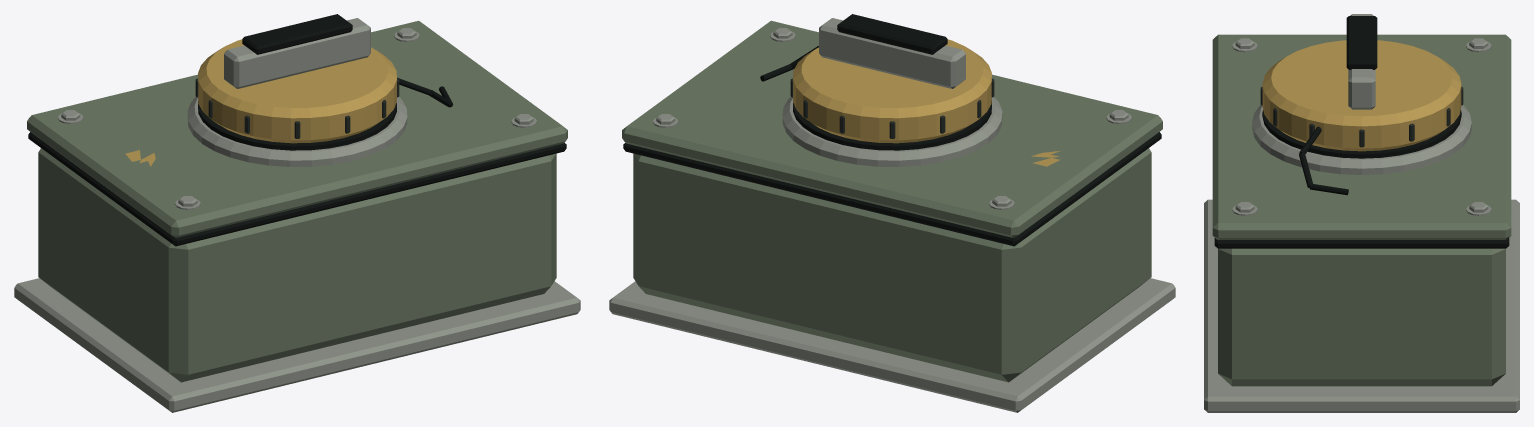
File: rv_fuel_inlet.gltf
3 views of the same model, side by side, from view 1: azimuth 30°, elevation 25°; view 2: azimuth 150°, elevation 25°; view 3: azimuth 270°, elevation 25° (orthographic).
Visible parts, largest first — view 1: rv_fuel_inlet; view 2: rv_fuel_inlet; view 3: rv_fuel_inlet.
Boxes of the visible parts, bbox=[...] form: rv_fuel_inlet: bbox=[14, 14, 580, 412]; rv_fuel_inlet: bbox=[609, 14, 1175, 412]; rv_fuel_inlet: bbox=[1204, 14, 1519, 412].
Bounding box in the file's own units: 0.6 × 0.3855 × 0.4.
